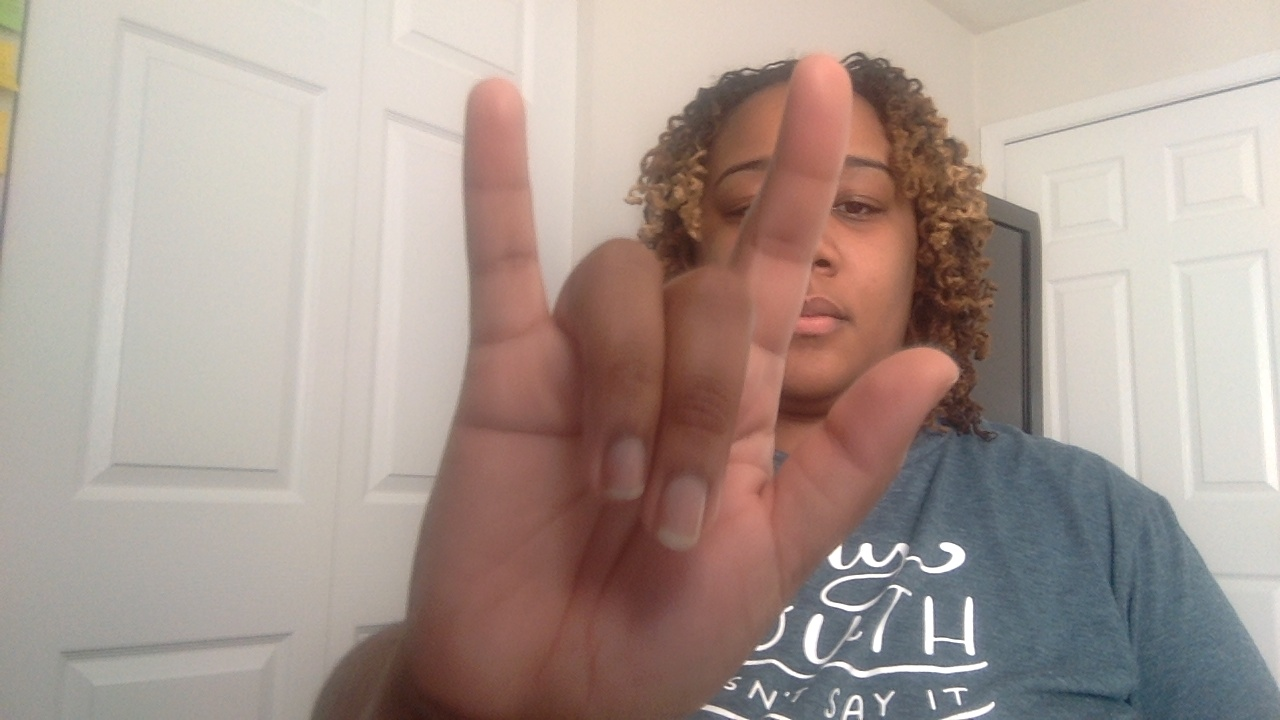i_love_you: (410, 56, 953, 720)
